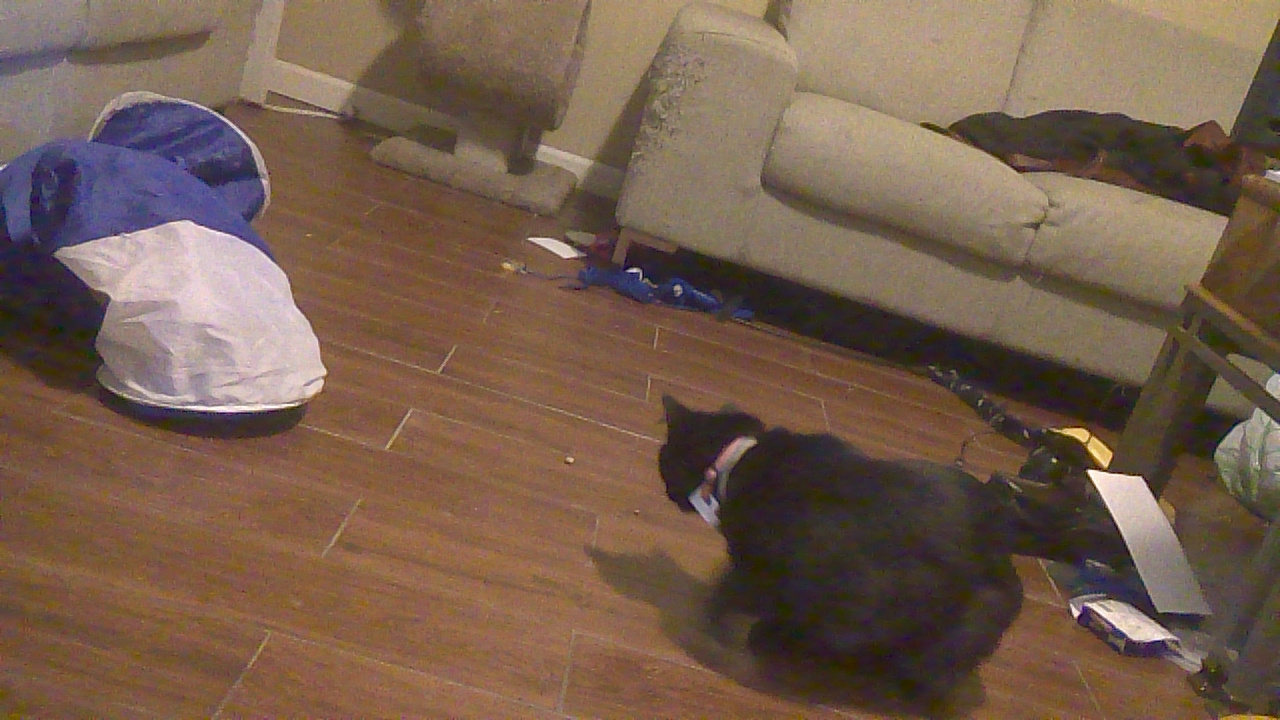cat: (660, 391, 1018, 701)
